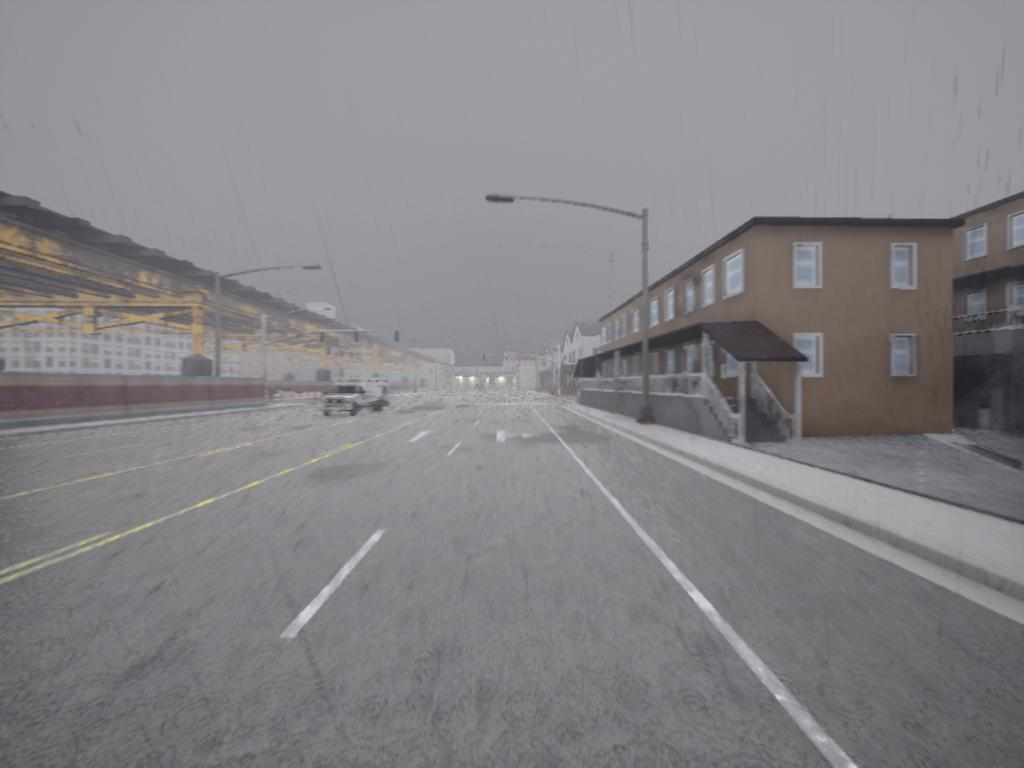traffic_light: (395, 332, 400, 345), (355, 333, 360, 344), (321, 333, 325, 344), (505, 353, 509, 364), (483, 354, 487, 363), (526, 355, 529, 365)
